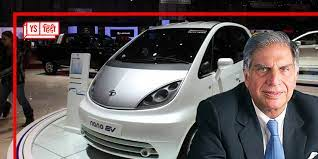Nano: (78, 20, 201, 159)
